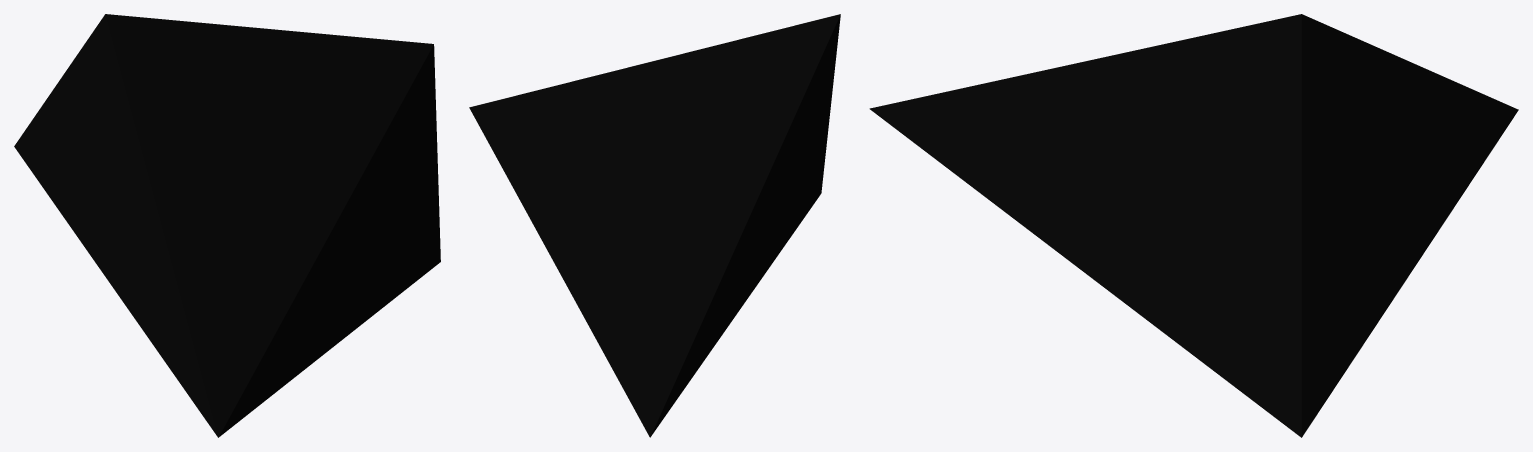
The picture shows the model from 3 angles, left to right: view 1: azimuth 30°, elevation 25°; view 2: azimuth 150°, elevation 25°; view 3: azimuth 270°, elevation 25°; orthographic projection. The views are drawn at different scales.
Size of the model in its own units: 0.0093 by 0.00723 by 0.013.
1 material, 1 textured.
